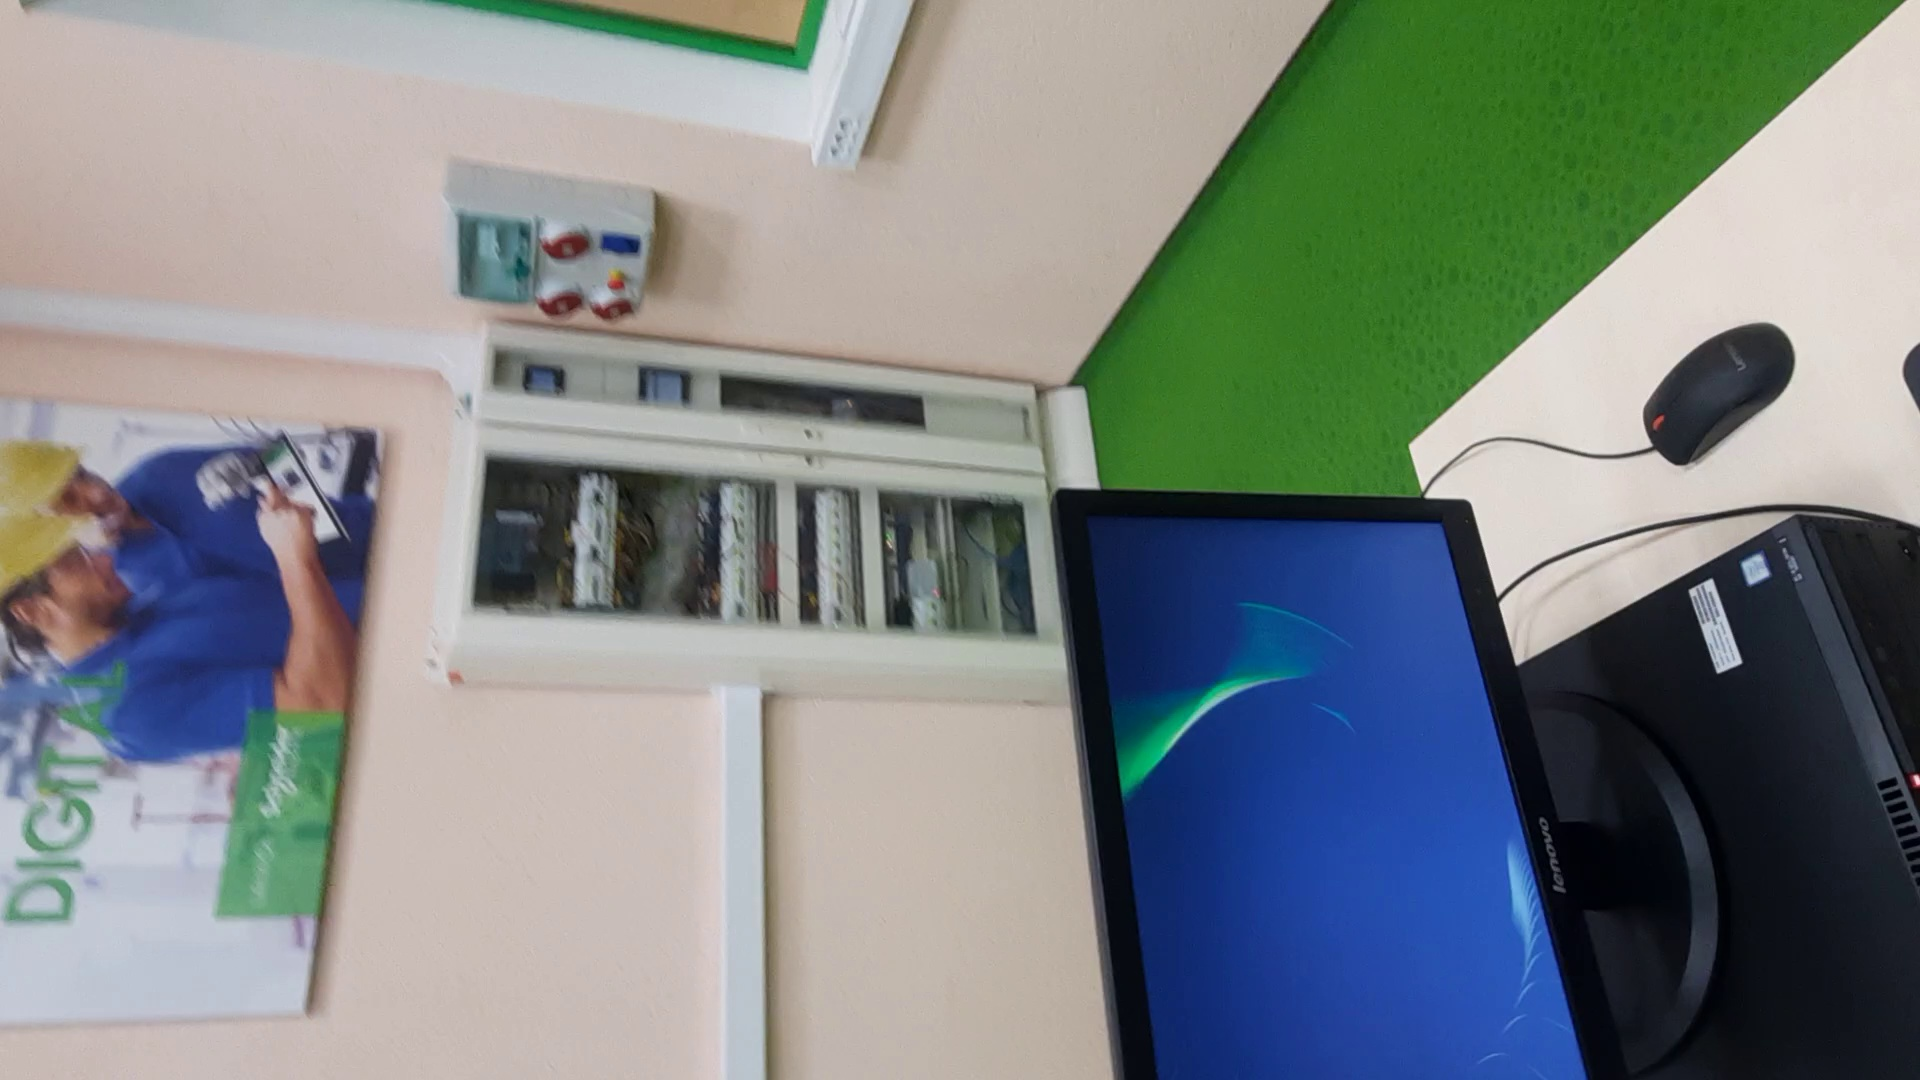stand1: (440, 334, 1044, 694)
